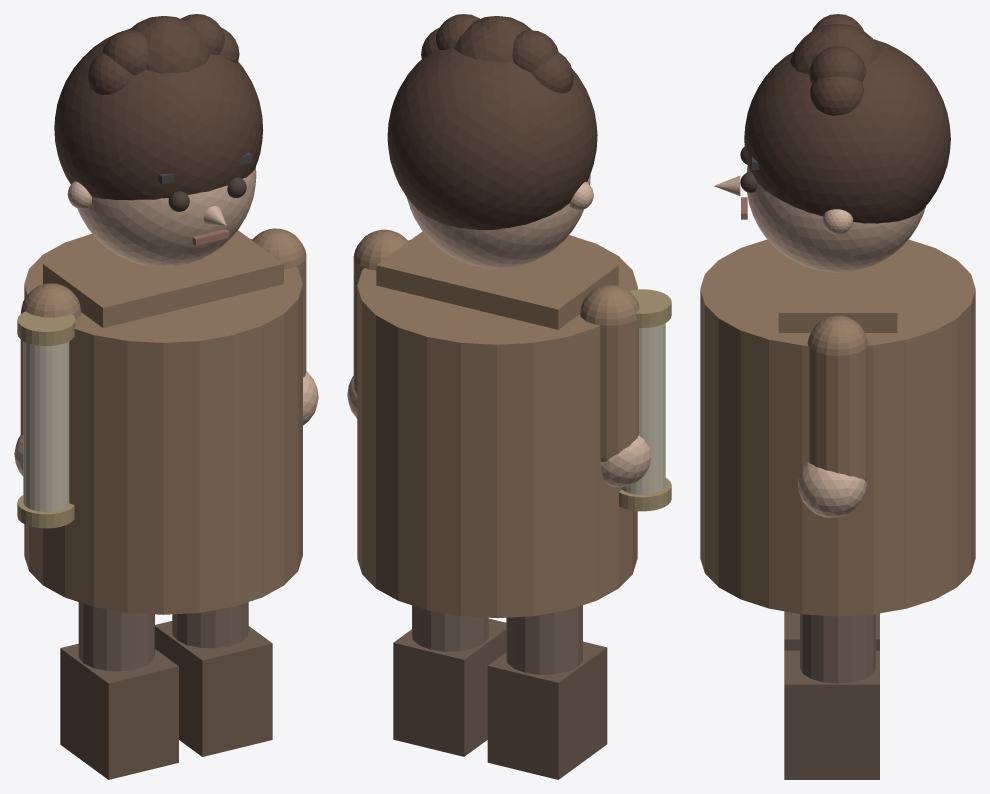
The model's file is daim.glb.
3 views of the same model, side by side, from view 1: azimuth 30°, elevation 25°; view 2: azimuth 150°, elevation 25°; view 3: azimuth 270°, elevation 25° (orthographic).
Visible parts, largest first — view 1: coat, hair_back, boot_L, torso, boot_R, head, scroll, leg_L, hair_bun, leg_R, arm_L, arm_R (+6 smaller); view 2: coat, hair_back, boot_L, torso, boot_R, arm_L, head, leg_L, scroll, leg_R, hair_bun, arm_R (+6 smaller); view 3: coat, hair_back, boot_R, arm_R, torso, head, leg_R, hand_R, hair_bun, braid_0, braid_1, boot_L (+1 smaller).
Part boxes in pixels (left/top/right/bottom): coat: left=24, top=234, right=302, bottom=614; hair_back: left=54, top=28, right=263, bottom=200; boot_L: left=60, top=643, right=178, bottom=779; torso: left=43, top=230, right=283, bottom=327; boot_R: left=155, top=621, right=272, bottom=756; head: left=77, top=167, right=256, bottom=267; scroll: left=23, top=341, right=69, bottom=511; leg_L: left=78, top=602, right=154, bottom=671; hair_bun: left=129, top=16, right=209, bottom=73; leg_R: left=172, top=602, right=248, bottom=648; arm_L: left=20, top=283, right=81, bottom=435; arm_R: left=252, top=228, right=306, bottom=377; coat: left=357, top=235, right=637, bottom=618; hair_back: left=387, top=48, right=597, bottom=229; boot_L: left=487, top=641, right=607, bottom=779; torso: left=376, top=231, right=618, bottom=329; boot_R: left=393, top=618, right=506, bottom=756; arm_L: left=580, top=284, right=639, bottom=461; head: left=406, top=174, right=590, bottom=268; leg_L: left=506, top=605, right=582, bottom=674; scroll: left=621, top=323, right=665, bottom=494; leg_R: left=412, top=605, right=488, bottom=651; hair_bun: left=453, top=16, right=532, bottom=62; arm_R: left=353, top=229, right=408, bottom=394; coat: left=700, top=239, right=975, bottom=616; hair_back: left=744, top=39, right=950, bottom=223; boot_R: left=784, top=650, right=879, bottom=779; arm_R: left=807, top=315, right=868, bottom=481; torso: left=778, top=251, right=897, bottom=332; head: left=746, top=166, right=925, bottom=272; leg_R: left=800, top=614, right=875, bottom=683; hand_R: left=798, top=462, right=866, bottom=517; hair_bun: left=790, top=24, right=880, bottom=74; braid_0: left=810, top=76, right=863, bottom=115; braid_1: left=809, top=46, right=865, bottom=83; boot_L: left=784, top=611, right=879, bottom=650.
Size of the model in its own units: 1.81 by 4.12 by 1.44.
